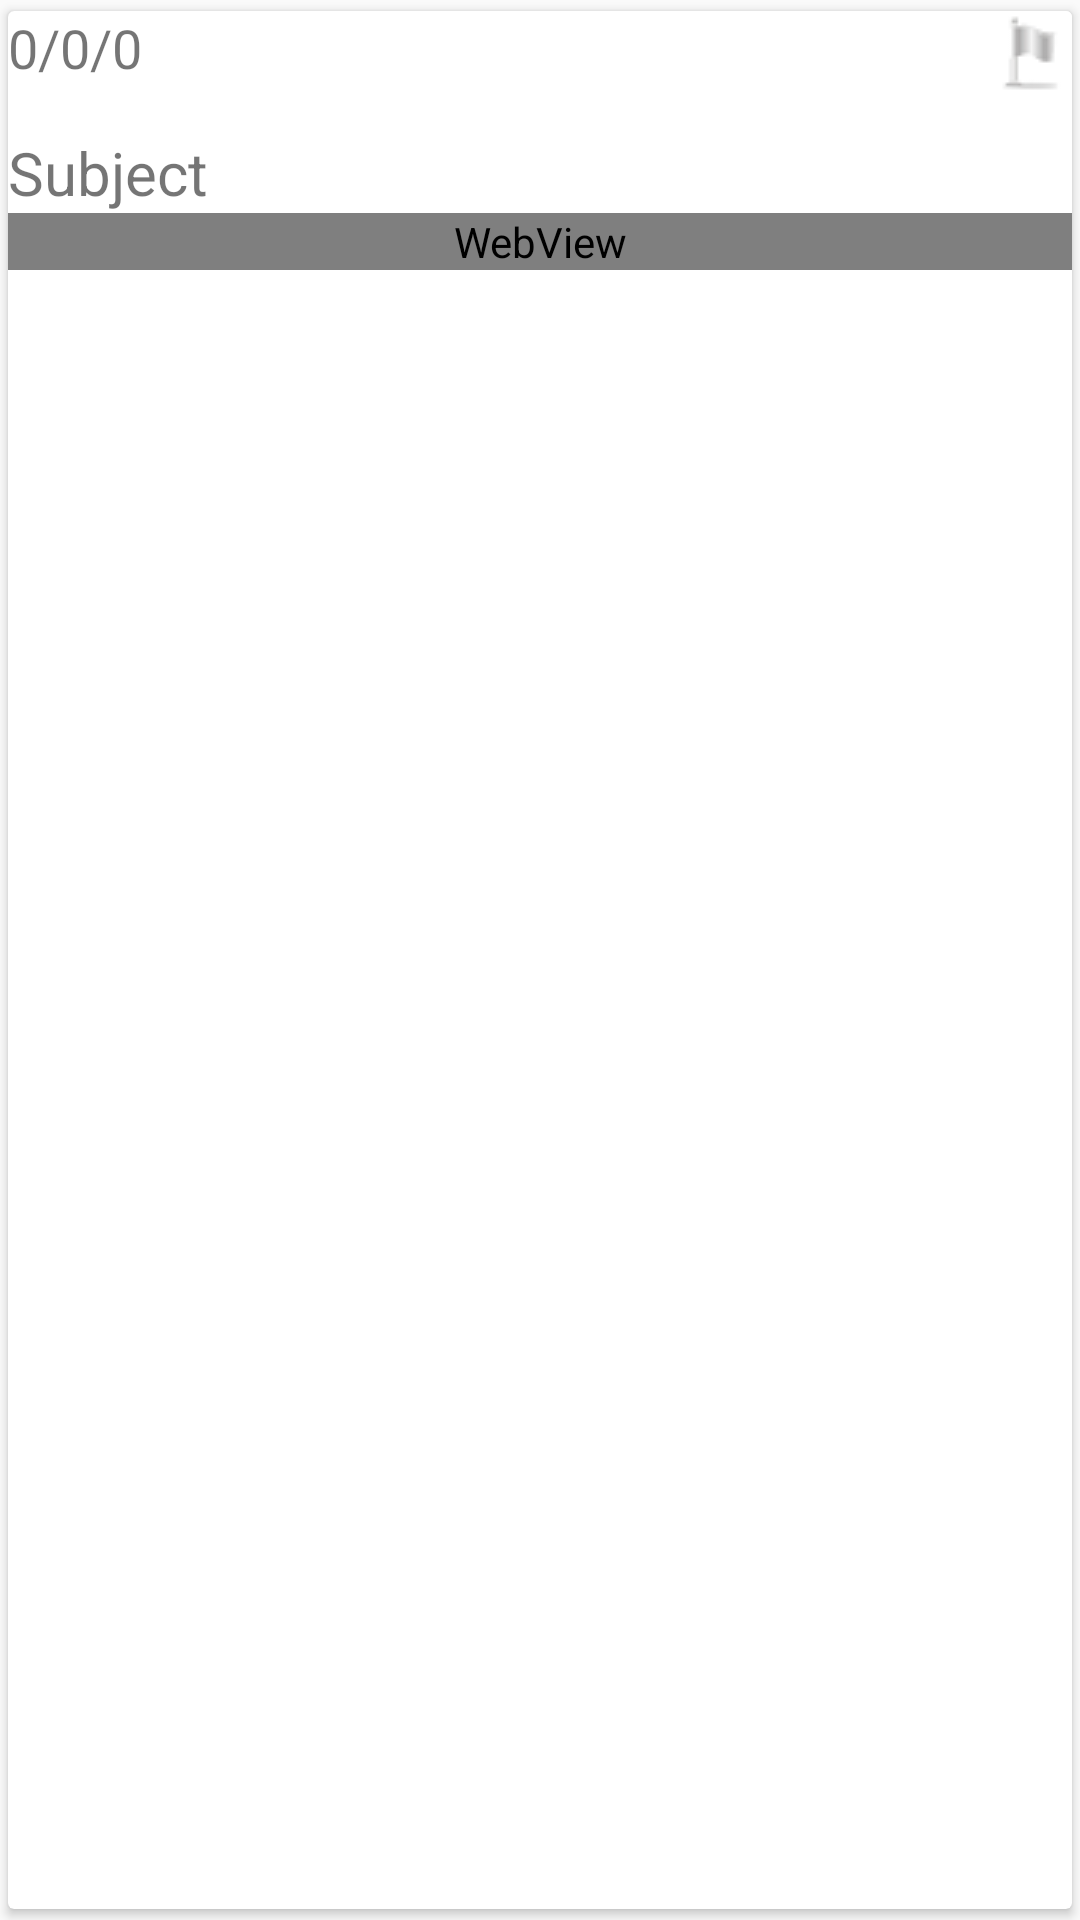

Where icons sit on this 1080px×1920px app screen, as rect(x1, y1, x2, y2):
flag: rect(1005, 18, 1054, 89)
